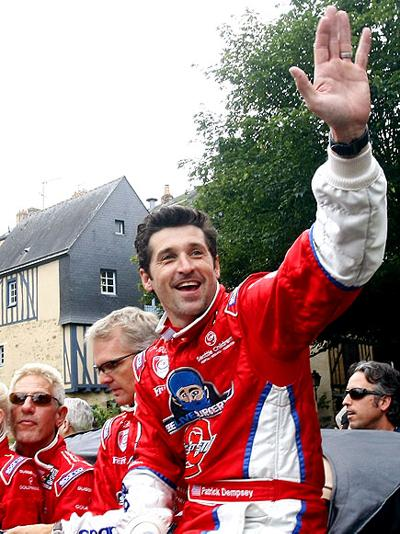person: (111, 6, 387, 534)
